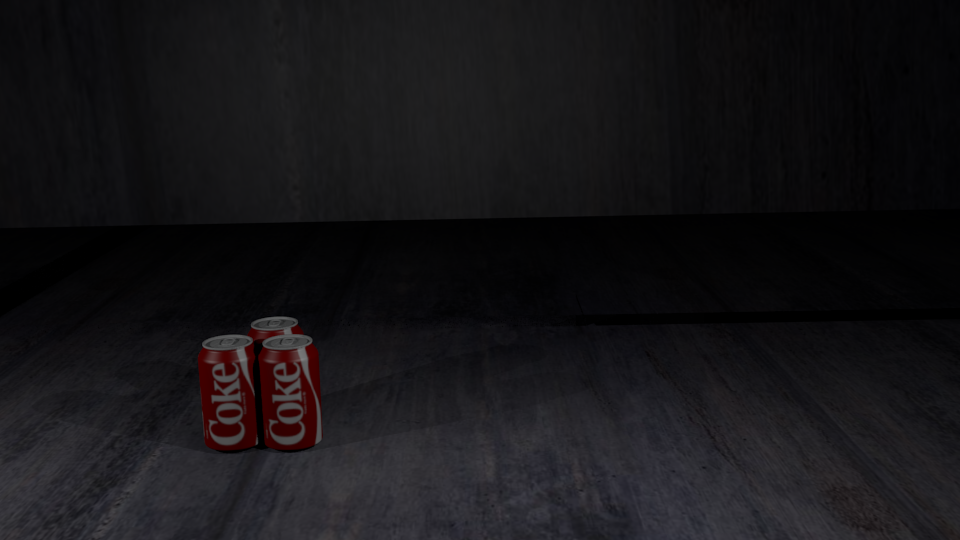cola_can: (198, 335, 260, 447), (258, 335, 320, 446), (247, 317, 302, 423)
